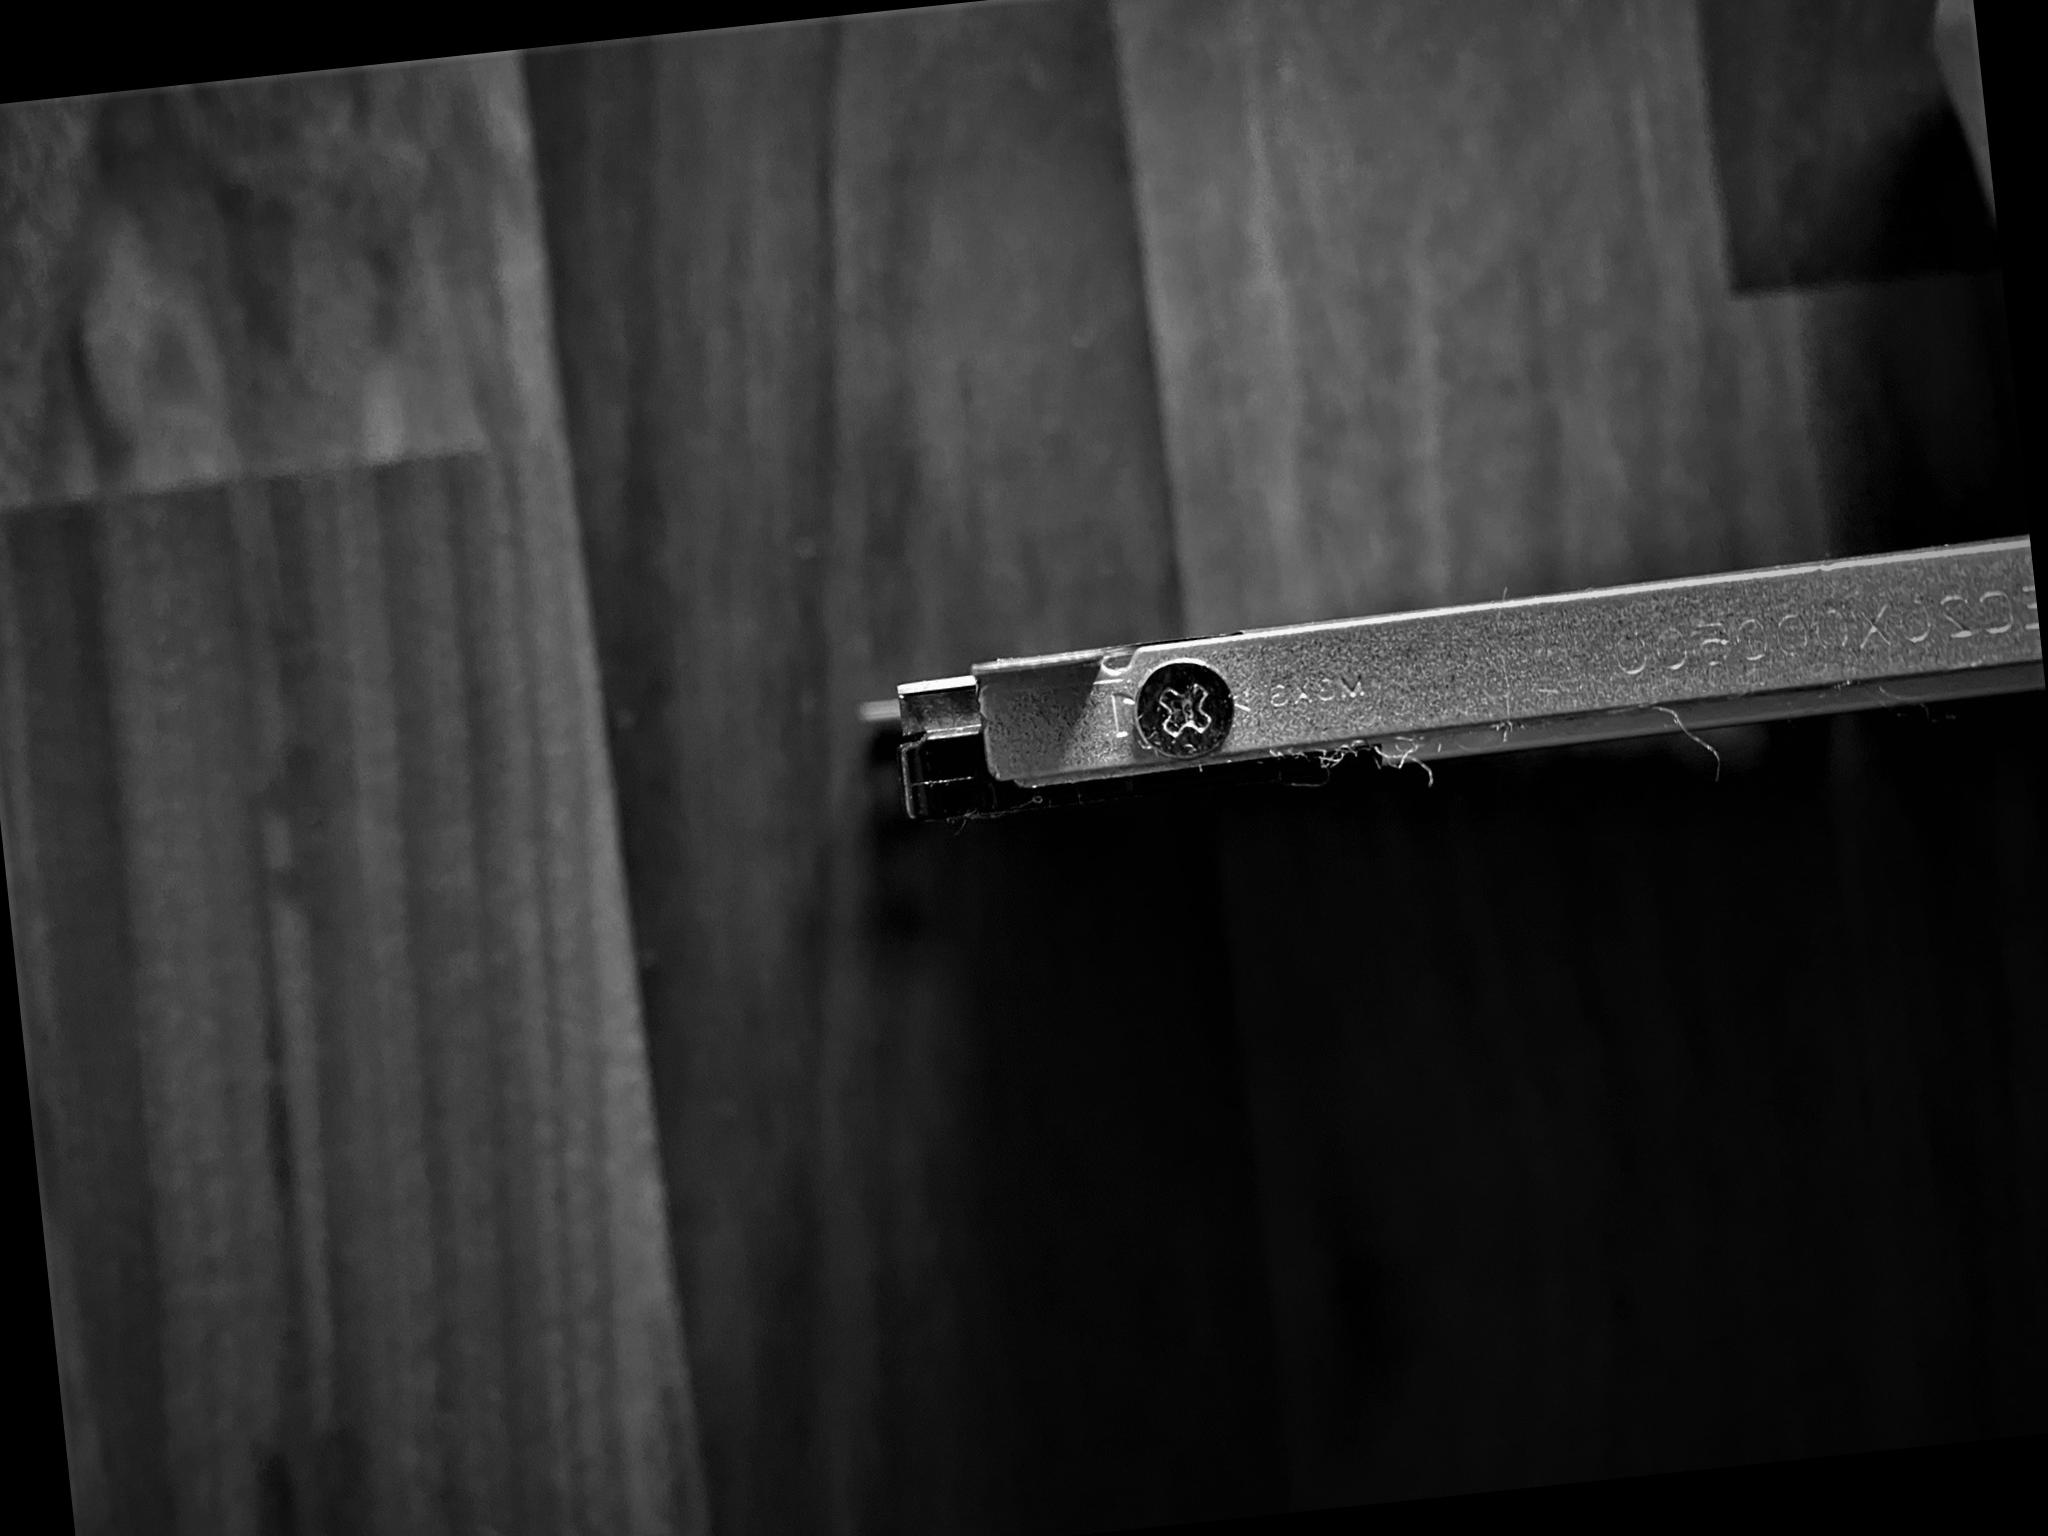PH: (1127, 652, 1242, 770)
